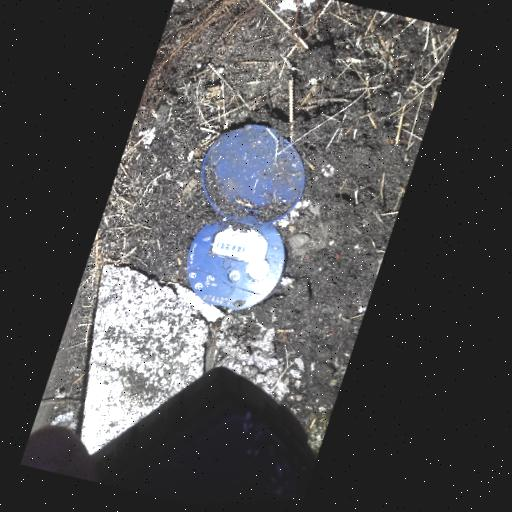0: (215, 241, 223, 249)
2: (226, 243, 235, 253), (220, 242, 229, 251)
3: (231, 244, 240, 252)
4: (236, 244, 246, 254)
border_water_meter_number: (212, 236, 250, 257)
